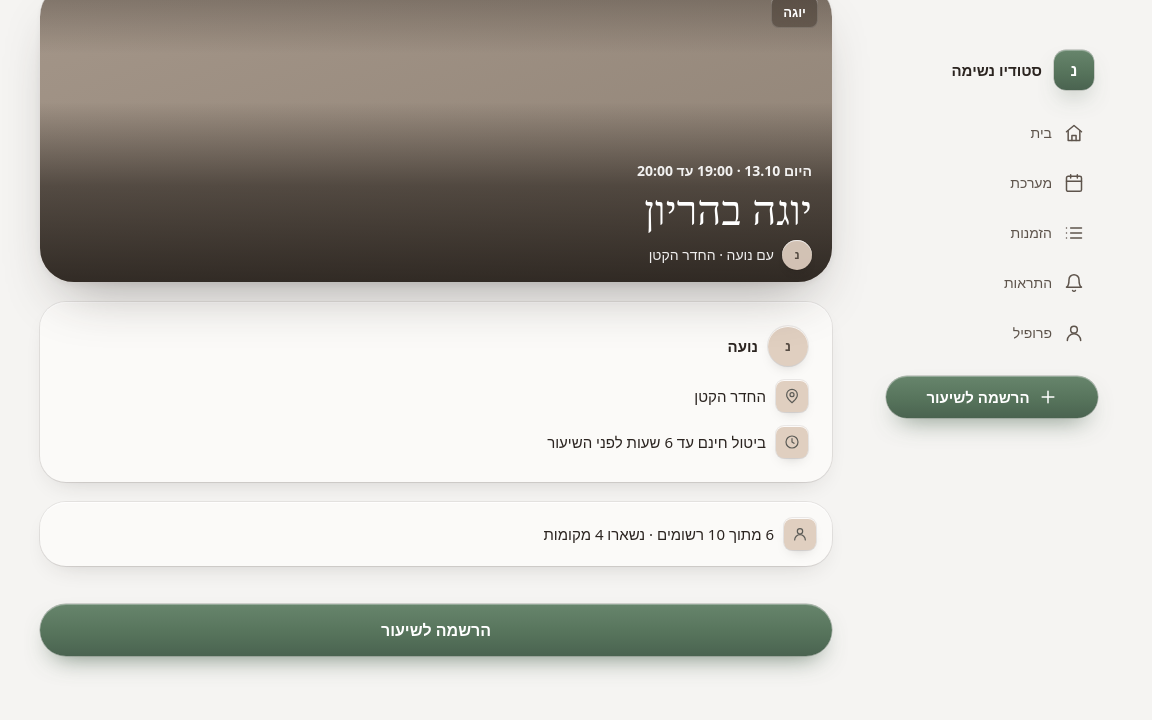
Test: the install offer after booking a class (board ח) › goes for 30 days on 'later'
(page scrolled)
Click the button "הרשמה לשיעור".
click(436, 630)  # box top-left (40, 604), bottom-right (832, 656)
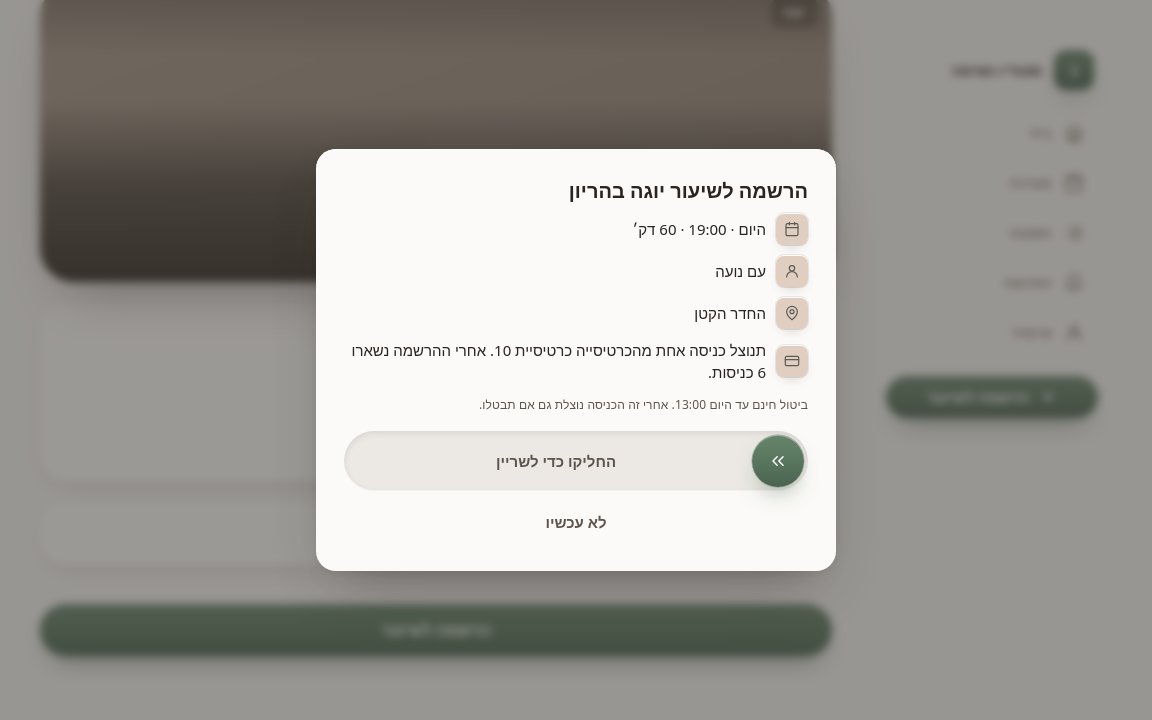
Click the button named "אישור ההרשמה".
click(778, 461)  # box top-left (752, 435), bottom-right (804, 487)
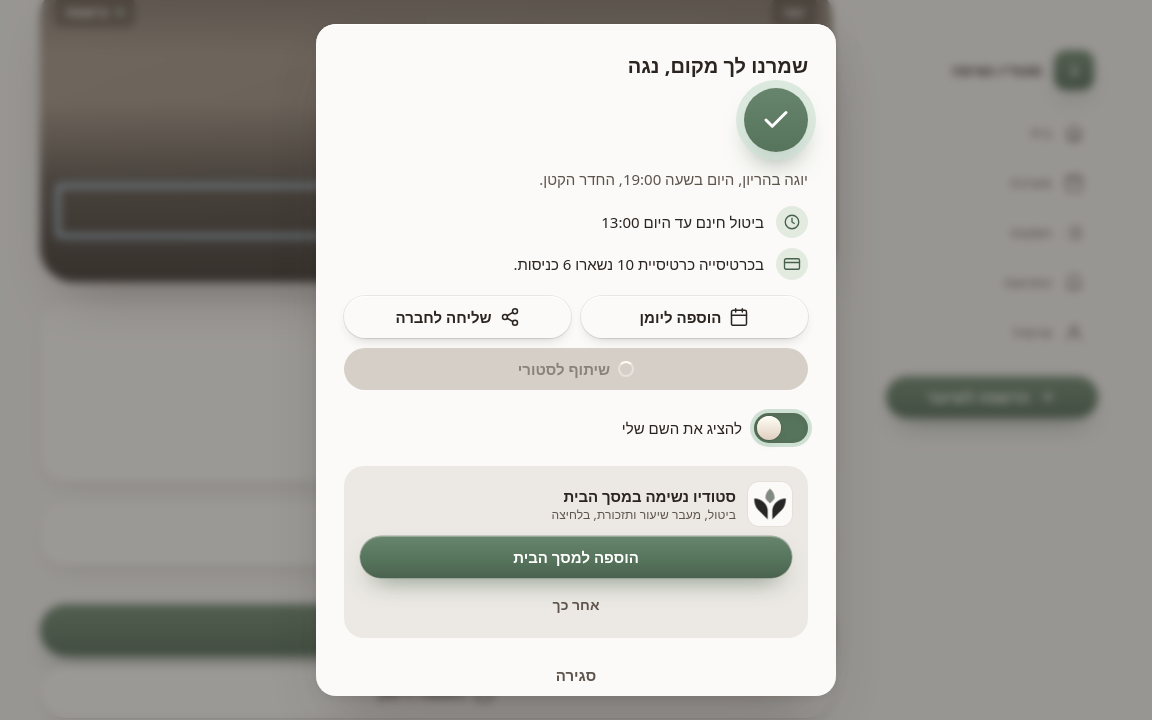
Click the button "אחר כך".
click(576, 605)  # box top-left (531, 588), bottom-right (622, 622)
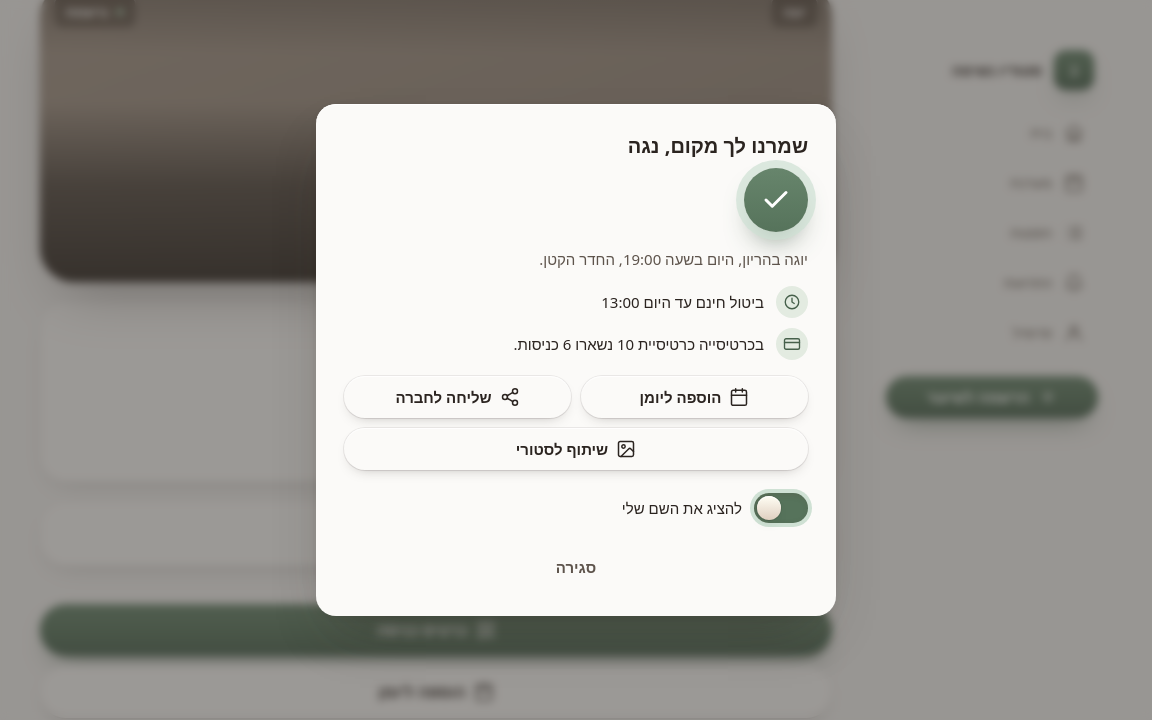
expect the heading "סטודיו נשימה במסך הבית" is gone: met
